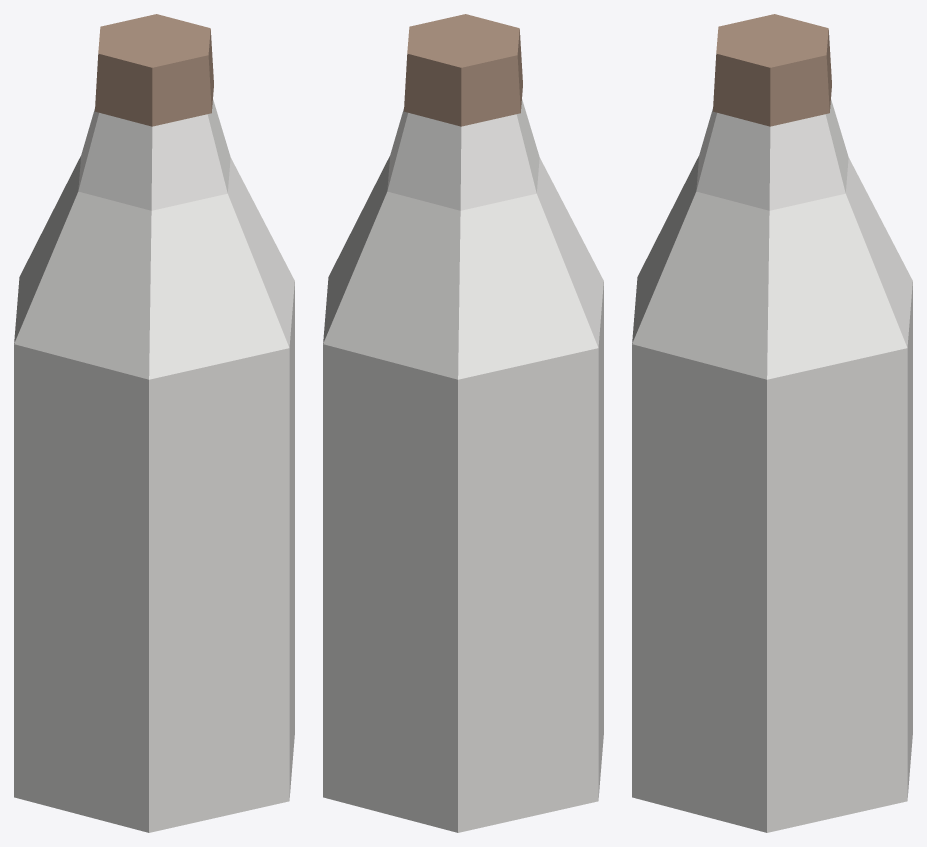
Rendered from Bottle_16.fbx.
3 renders of one model, left to right at view 1: azimuth 30°, elevation 25°; view 2: azimuth 150°, elevation 25°; view 3: azimuth 270°, elevation 25°, orthographic.
Visible parts, largest first — view 1: Bottle_16; view 2: Bottle_16; view 3: Bottle_16.
Part boxes in pixels (x1,y1,x2,y2): Bottle_16: (14, 14, 294, 832); Bottle_16: (323, 14, 603, 832); Bottle_16: (632, 14, 912, 832).
Size of the model in its own units: 9.8 by 8.65 by 24.63.
